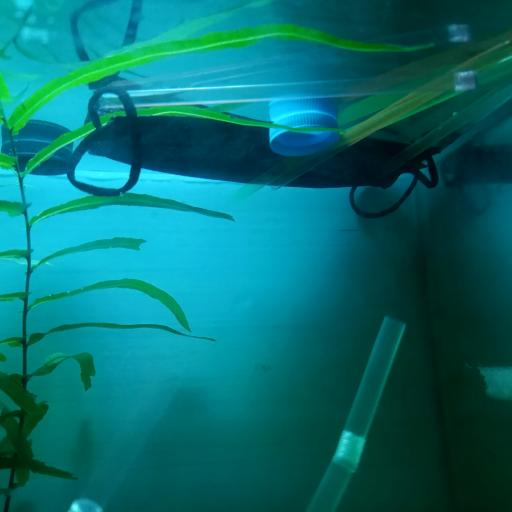bottle_cap: (0, 134, 75, 174), (268, 110, 336, 153)
mask: (66, 79, 441, 221)
plastic_straw: (255, 40, 512, 189), (92, 53, 512, 105), (306, 313, 407, 512), (68, 376, 179, 512), (361, 85, 512, 165)
